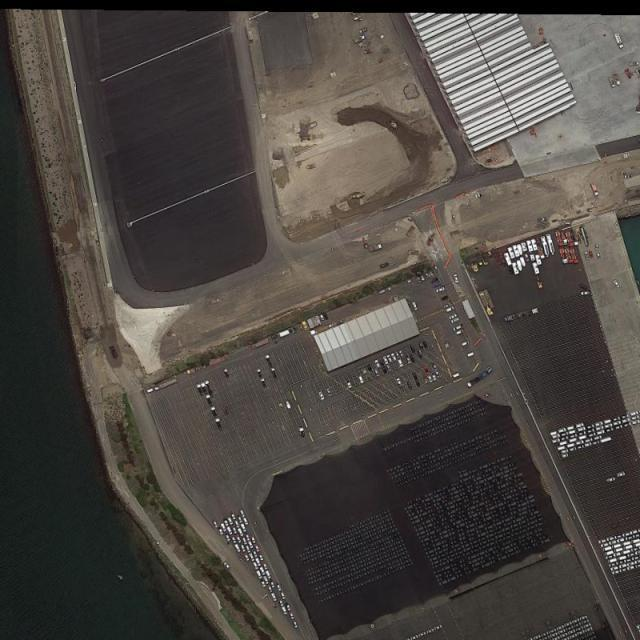vehicle: (215, 419, 224, 431), (201, 383, 209, 396), (266, 355, 274, 368), (443, 302, 455, 310), (206, 382, 214, 394), (210, 407, 218, 419), (197, 385, 204, 398), (411, 301, 420, 311), (611, 415, 622, 423), (613, 278, 621, 289), (414, 378, 422, 389), (465, 350, 476, 358), (318, 390, 326, 401), (234, 542, 242, 553), (435, 286, 446, 294), (223, 369, 231, 380), (206, 395, 214, 406), (298, 427, 306, 438), (378, 356, 385, 368), (260, 378, 267, 390), (446, 306, 456, 314), (460, 339, 470, 347), (603, 545, 614, 552), (227, 515, 234, 526), (374, 358, 381, 369), (382, 355, 389, 366), (241, 522, 248, 533), (238, 526, 245, 537), (256, 369, 263, 380), (379, 262, 390, 269), (566, 442, 575, 450), (576, 438, 585, 446), (454, 324, 463, 332), (282, 604, 288, 616), (223, 561, 231, 570), (600, 542, 610, 549), (612, 542, 622, 549), (604, 550, 614, 557), (614, 425, 624, 432), (579, 283, 589, 290), (630, 415, 640, 422), (616, 471, 626, 478), (606, 476, 616, 483), (558, 440, 568, 447), (224, 532, 231, 542), (386, 364, 393, 374), (381, 366, 388, 376), (431, 372, 438, 382), (366, 362, 373, 372), (263, 575, 270, 585), (256, 570, 263, 580), (249, 552, 256, 562), (622, 549, 633, 555), (622, 544, 633, 550), (607, 557, 618, 563), (435, 370, 441, 381), (398, 358, 404, 369), (450, 318, 461, 324), (454, 329, 465, 335), (271, 370, 277, 381), (270, 594, 278, 602), (541, 630, 549, 638), (609, 539, 618, 546), (631, 419, 640, 426), (624, 421, 633, 428), (605, 422, 614, 429), (230, 511, 237, 520), (358, 376, 365, 385), (391, 353, 398, 362), (226, 526, 233, 535), (278, 597, 285, 606), (418, 631, 427, 638), (231, 534, 238, 543), (243, 553, 250, 562), (252, 561, 259, 570), (285, 401, 292, 410), (567, 629, 576, 636), (571, 618, 580, 625), (558, 628, 567, 635), (630, 538, 640, 544), (621, 540, 631, 546), (568, 437, 578, 443), (584, 437, 594, 443), (583, 442, 593, 448), (560, 448, 570, 454), (423, 375, 429, 385), (406, 356, 412, 366), (346, 379, 352, 389), (449, 314, 459, 320), (327, 388, 333, 398), (280, 590, 286, 600), (434, 625, 444, 631), (251, 534, 257, 544), (248, 539, 254, 549), (256, 557, 262, 567), (453, 274, 459, 284), (552, 438, 560, 445), (622, 531, 630, 538), (239, 509, 246, 517), (223, 518, 230, 526), (386, 354, 393, 362), (231, 526, 238, 534), (275, 582, 282, 590), (254, 544, 261, 552), (258, 553, 265, 561), (582, 618, 590, 625), (583, 623, 591, 630), (550, 631, 558, 638), (579, 614, 587, 621), (613, 551, 622, 557), (608, 562, 617, 568), (627, 552, 636, 558), (631, 555, 640, 561), (576, 423, 585, 429), (629, 410, 638, 416), (621, 414, 630, 420), (603, 418, 612, 424), (594, 435, 603, 441), (578, 426, 587, 432), (578, 430, 587, 436), (412, 371, 418, 380), (432, 362, 438, 371), (243, 516, 249, 525), (410, 354, 416, 363), (417, 351, 423, 360), (410, 344, 416, 353), (218, 526, 224, 535), (286, 603, 292, 612), (410, 634, 419, 640), (260, 566, 266, 575), (235, 519, 241, 528), (245, 533, 251, 542), (241, 544, 247, 553), (542, 634, 551, 640), (564, 621, 573, 627), (565, 626, 574, 632), (569, 633, 578, 639), (548, 628, 557, 634), (618, 555, 628, 560), (588, 432, 598, 437), (246, 544, 251, 554), (416, 274, 421, 284), (552, 635, 562, 640), (442, 295, 449, 302), (586, 626, 593, 633), (606, 554, 614, 560), (610, 566, 618, 572), (558, 428, 566, 434), (550, 430, 558, 436), (622, 418, 630, 424), (596, 252, 602, 260), (614, 420, 622, 426), (614, 534, 622, 540), (606, 427, 614, 433), (595, 421, 603, 427), (586, 424, 594, 430), (596, 425, 604, 431), (579, 434, 587, 440), (562, 452, 570, 458), (396, 378, 402, 386), (374, 370, 380, 378), (270, 581, 276, 589), (293, 620, 299, 628), (426, 628, 434, 634), (266, 571, 272, 579), (236, 535, 242, 543), (252, 550, 258, 558), (319, 314, 325, 322), (533, 634, 541, 640), (574, 622, 582, 628), (575, 626, 583, 632), (578, 630, 586, 636), (556, 625, 564, 631), (630, 547, 639, 552), (625, 536, 634, 541), (614, 547, 623, 552), (618, 564, 627, 569), (566, 426, 575, 431), (557, 446, 566, 451), (587, 428, 596, 433), (577, 445, 586, 450), (407, 382, 412, 391), (213, 519, 218, 528), (221, 522, 226, 531), (290, 611, 295, 620), (633, 533, 640, 539), (599, 538, 606, 544), (592, 440, 599, 446), (267, 586, 273, 593), (619, 568, 627, 573), (616, 561, 624, 566), (624, 558, 632, 563), (630, 530, 638, 535), (596, 430, 606, 434), (570, 433, 578, 438), (561, 437, 569, 442), (570, 446, 578, 451), (428, 374, 433, 382), (238, 515, 243, 523), (395, 351, 400, 359), (399, 350, 404, 358), (261, 579, 266, 587), (263, 562, 268, 570), (242, 536, 247, 544), (560, 633, 568, 638), (617, 538, 626, 542), (626, 566, 635, 570), (552, 434, 561, 438), (568, 430, 577, 434), (562, 431, 569, 436), (421, 274, 426, 281), (626, 562, 634, 566), (611, 570, 619, 574), (634, 542, 640, 547), (607, 537, 614, 541), (581, 292, 590, 295), (635, 550, 640, 555), (635, 563, 640, 568), (634, 559, 640, 563), (562, 637, 570, 640), (637, 625, 640, 630), (637, 410, 640, 415), (638, 547, 640, 550)
